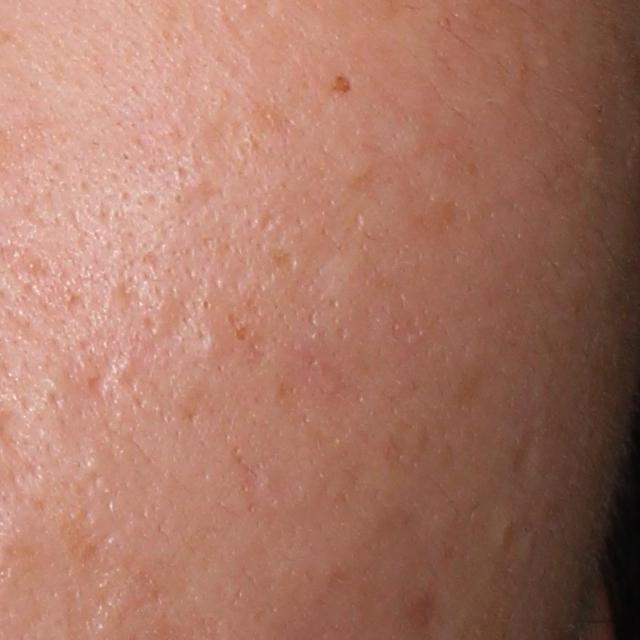melasma: (330, 73, 352, 95)
